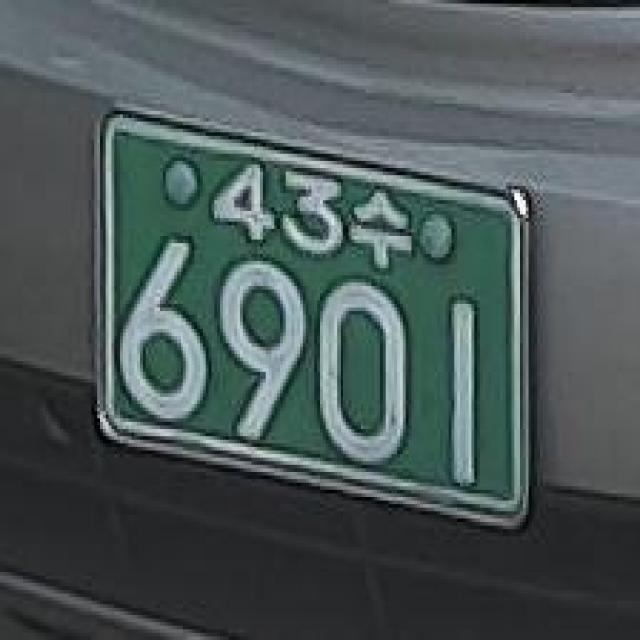illegal_plate: (72, 97, 548, 536)
